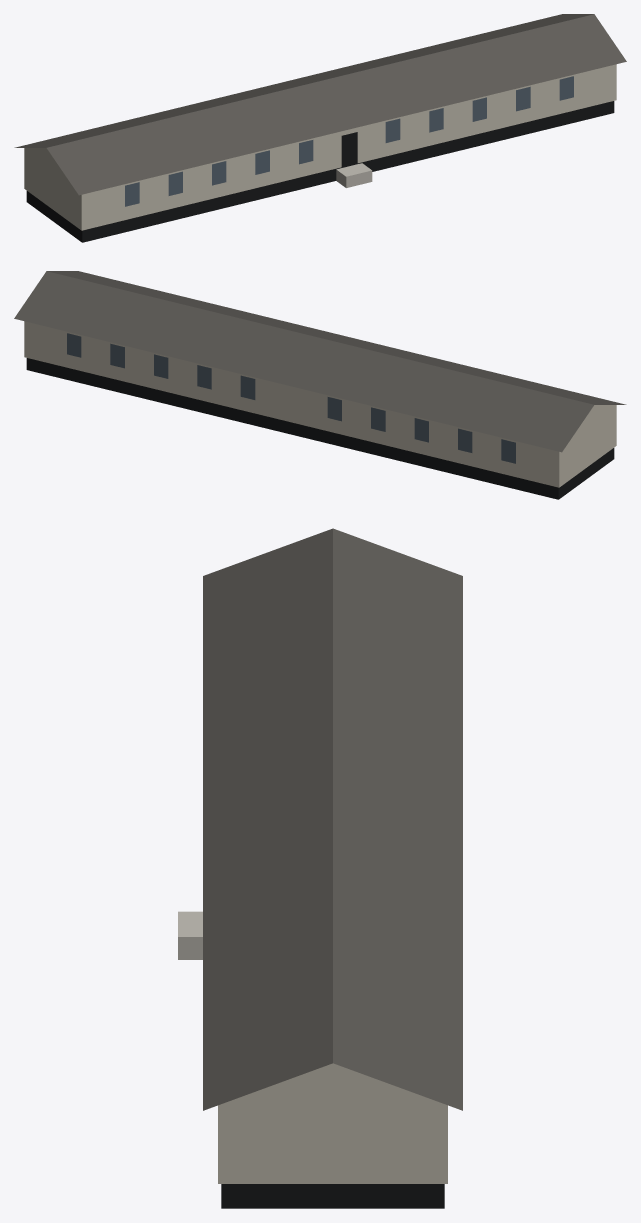
File: lru-temporary-1961-3.glb
The picture shows the model from 3 angles, top to bottom: view 1: azimuth 30°, elevation 25°; view 2: azimuth 150°, elevation 25°; view 3: azimuth 270°, elevation 25°; orthographic projection. The views are drawn at different scales.
Visible parts, largest first — view 1: lru_temporary_1961_3; view 2: lru_temporary_1961_3; view 3: lru_temporary_1961_3.
Part boxes in pixels (left/top/right/bottom): lru_temporary_1961_3: left=14, top=14, right=626, bottom=242; lru_temporary_1961_3: left=14, top=271, right=626, bottom=499; lru_temporary_1961_3: left=178, top=528, right=462, bottom=1208.
Size of the model in its own units: 37.84 by 5.05 by 8.52.
